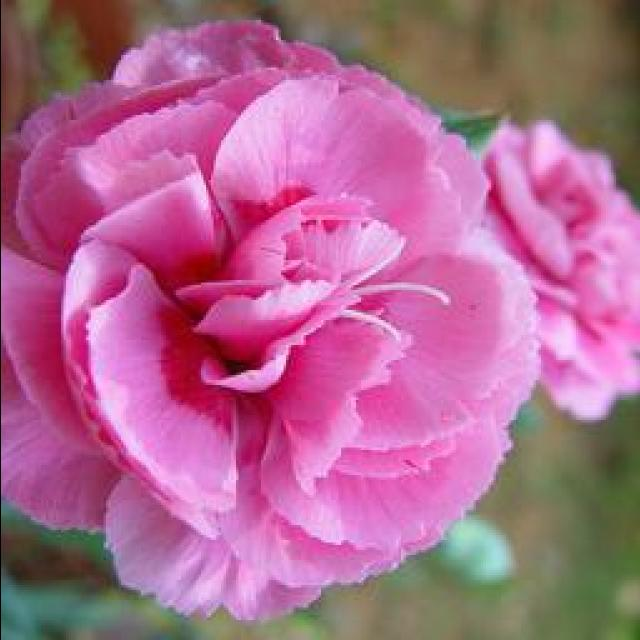carnation: (1, 14, 554, 620)
